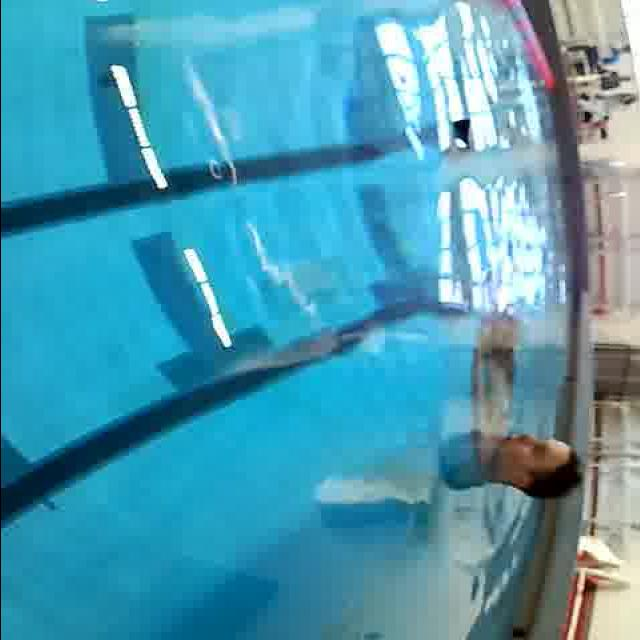CamMount: (448, 118, 482, 156)
